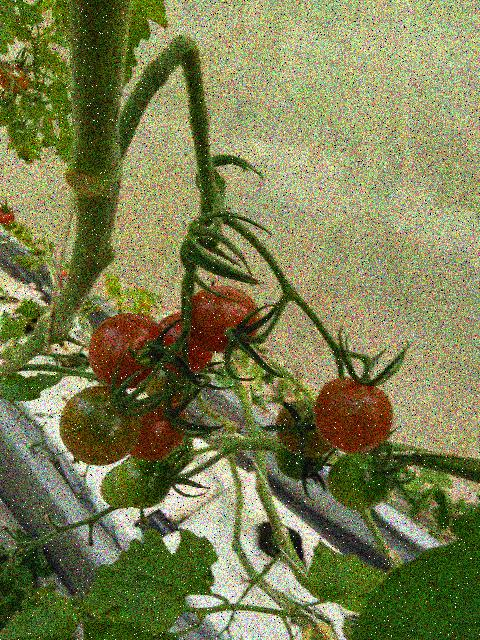l_fully_ripened: (87, 313, 161, 388), (186, 284, 262, 354), (130, 397, 188, 460), (159, 312, 214, 378), (0, 206, 15, 226)
l_green: (328, 449, 391, 508), (115, 454, 175, 509), (138, 359, 196, 402), (275, 442, 325, 479), (101, 464, 133, 508), (166, 434, 193, 472), (18, 94, 47, 120), (6, 121, 32, 147), (0, 96, 17, 127)
l_half_ripened: (59, 385, 141, 466), (314, 377, 393, 454), (277, 400, 332, 457), (0, 62, 31, 95)
